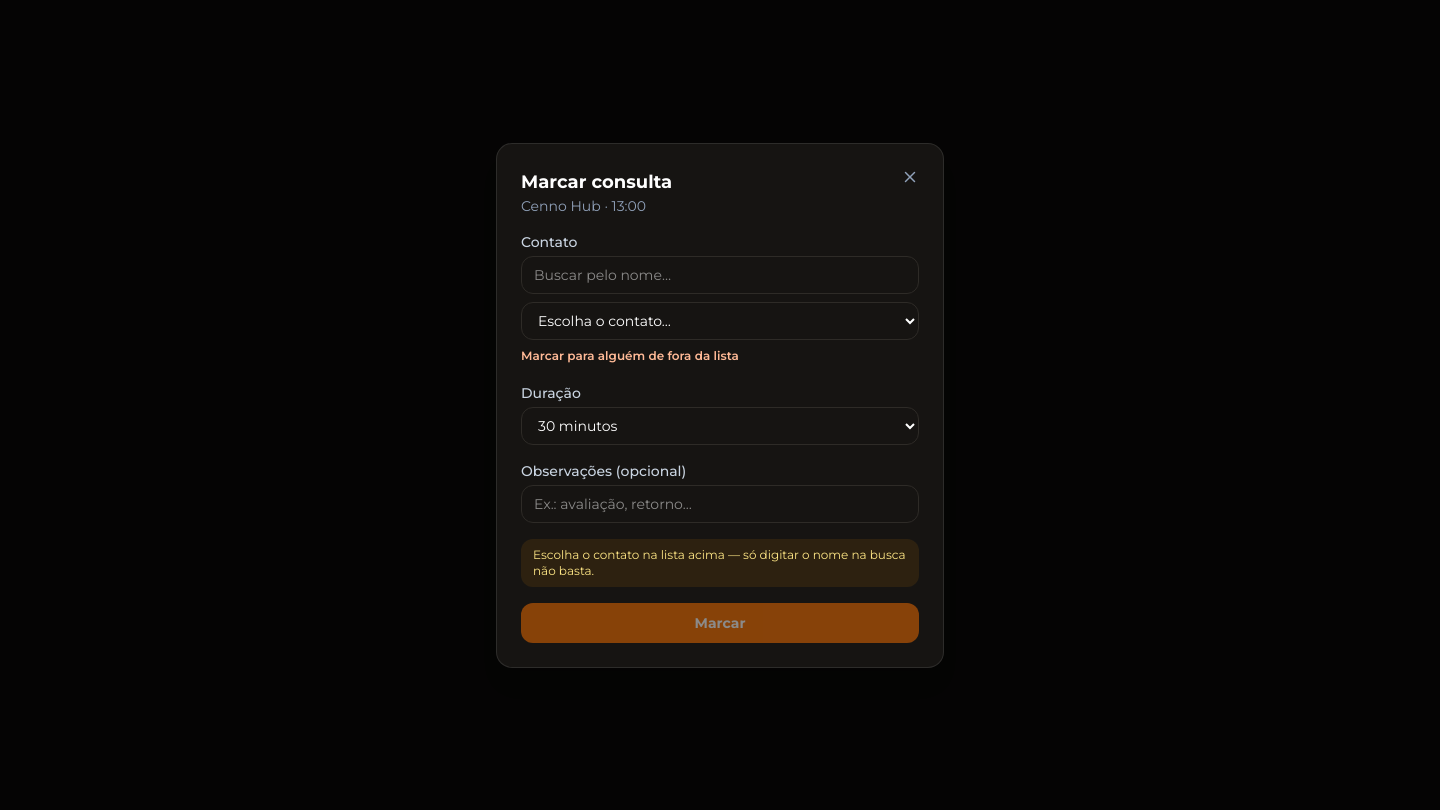
Test: MarcarConsultaModal — marcar para quem não está em Contatos › no modo novo, sem nome o botão continua apagado e explicado
The image size is (1440, 810).
Click the button "Marcar para alguém de fora da lista". click: (630, 356)
box: x1=521 y1=348 x2=739 y2=364
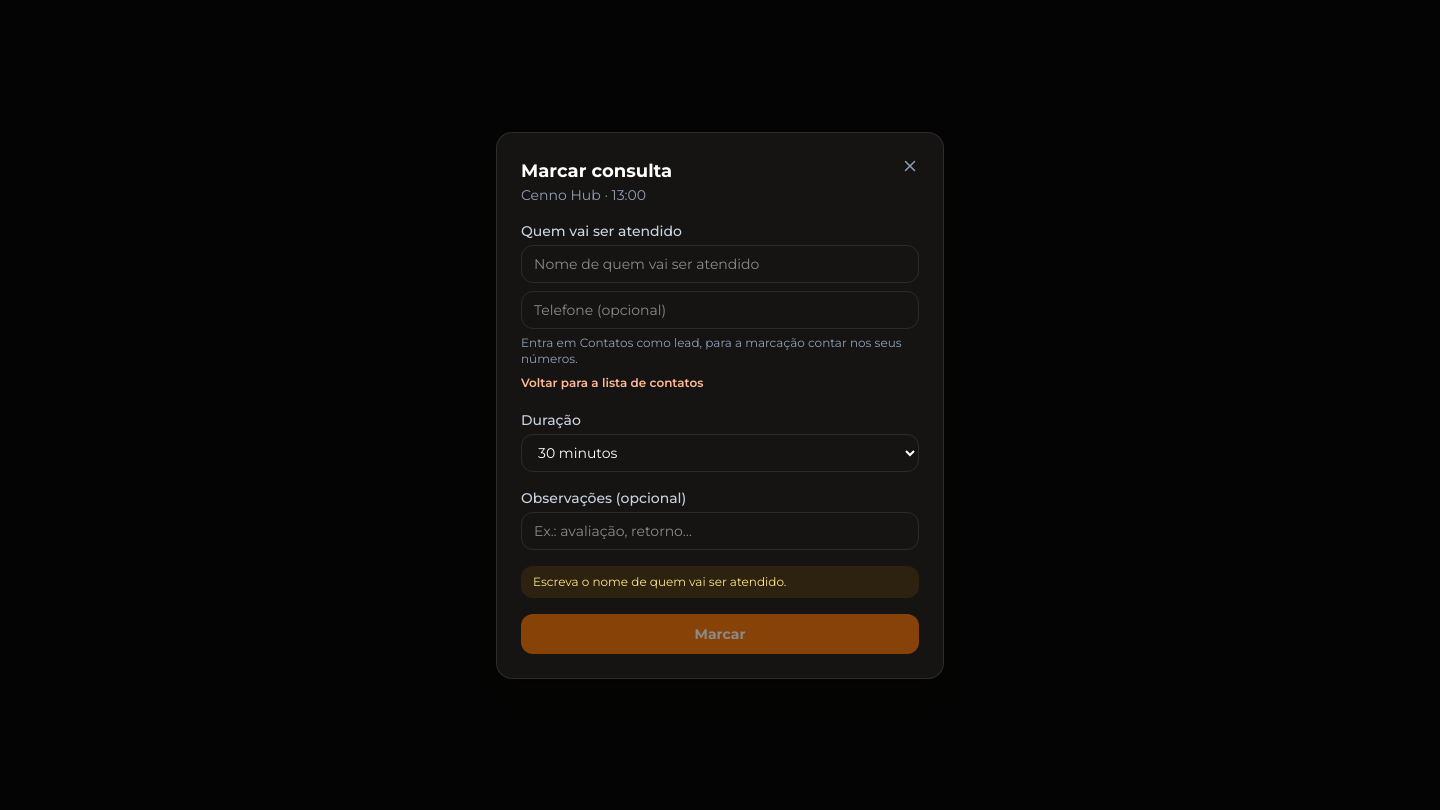
Expected: the button "Marcar" is disabled, x1=521 y1=614 x2=919 y2=654
Expected: the message shows "Escreva o nome", x1=533 y1=574 x2=786 y2=588
